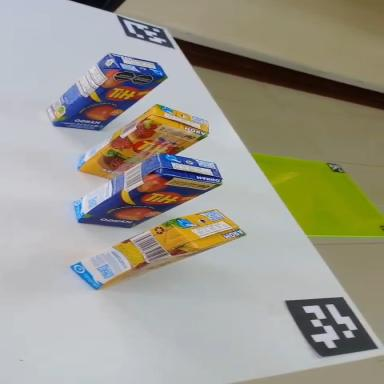HIT-MANGO: (66, 134, 224, 248), (40, 33, 168, 151)
HIT-MORA: (66, 197, 246, 297), (69, 87, 214, 199)
cara_F: (75, 152, 221, 249), (74, 100, 207, 200), (52, 49, 167, 151), (96, 232, 245, 292)
